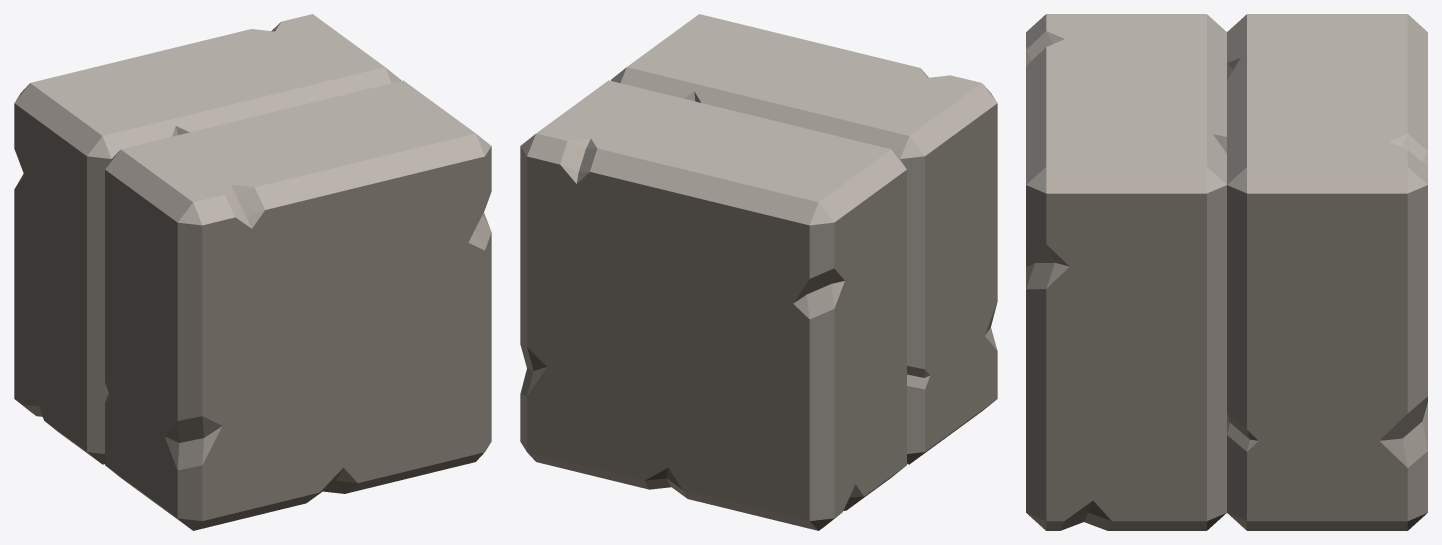
The model's file is m_kub_stone_halfBigDouble.FBX.
3 renders of one model, left to right at view 1: azimuth 30°, elevation 25°; view 2: azimuth 150°, elevation 25°; view 3: azimuth 270°, elevation 25°, orthographic. The views are drawn at different scales.
Visible parts, largest first — view 1: m_kub_stone_halfBigDouble; view 2: m_kub_stone_halfBigDouble; view 3: m_kub_stone_halfBigDouble.
Part boxes in pixels (x1,y1,x2,y2): m_kub_stone_halfBigDouble: (14, 14, 491, 530); m_kub_stone_halfBigDouble: (520, 14, 997, 530); m_kub_stone_halfBigDouble: (1026, 14, 1427, 530).
Bounding box in the file's own units: 2 × 2 × 2.
